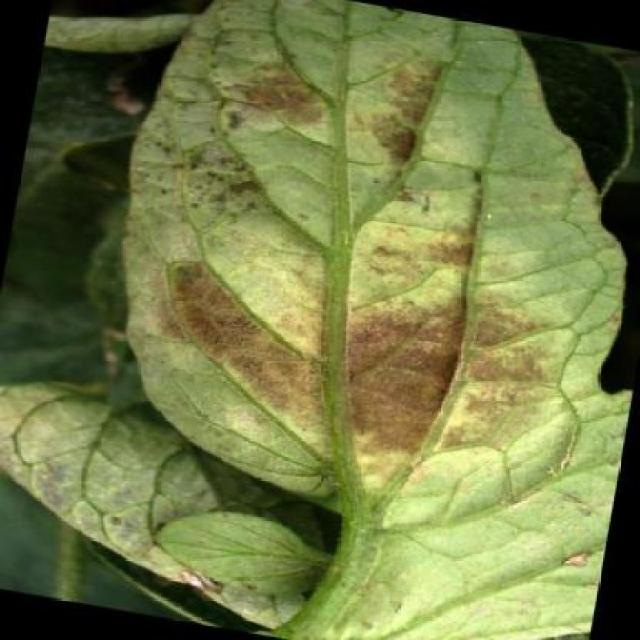Leaf Mold: (80, 0, 640, 520)
